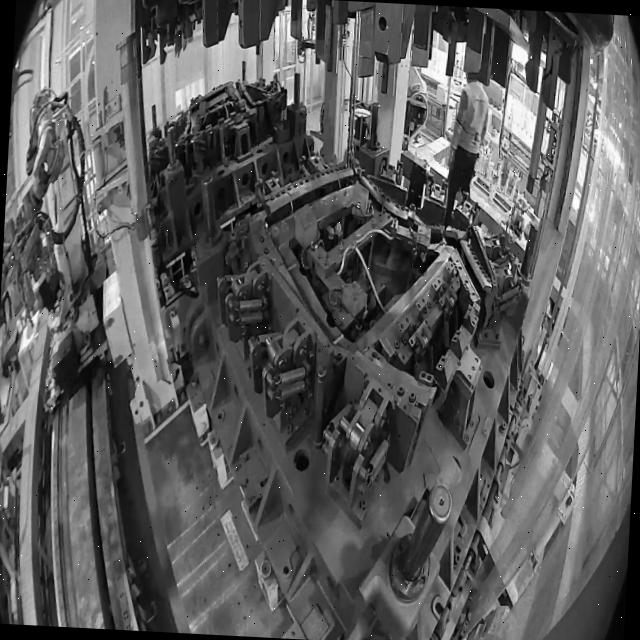Person: (444, 77, 492, 234)
